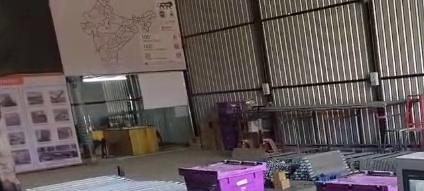box: (179, 161, 265, 190), (317, 174, 397, 190)
